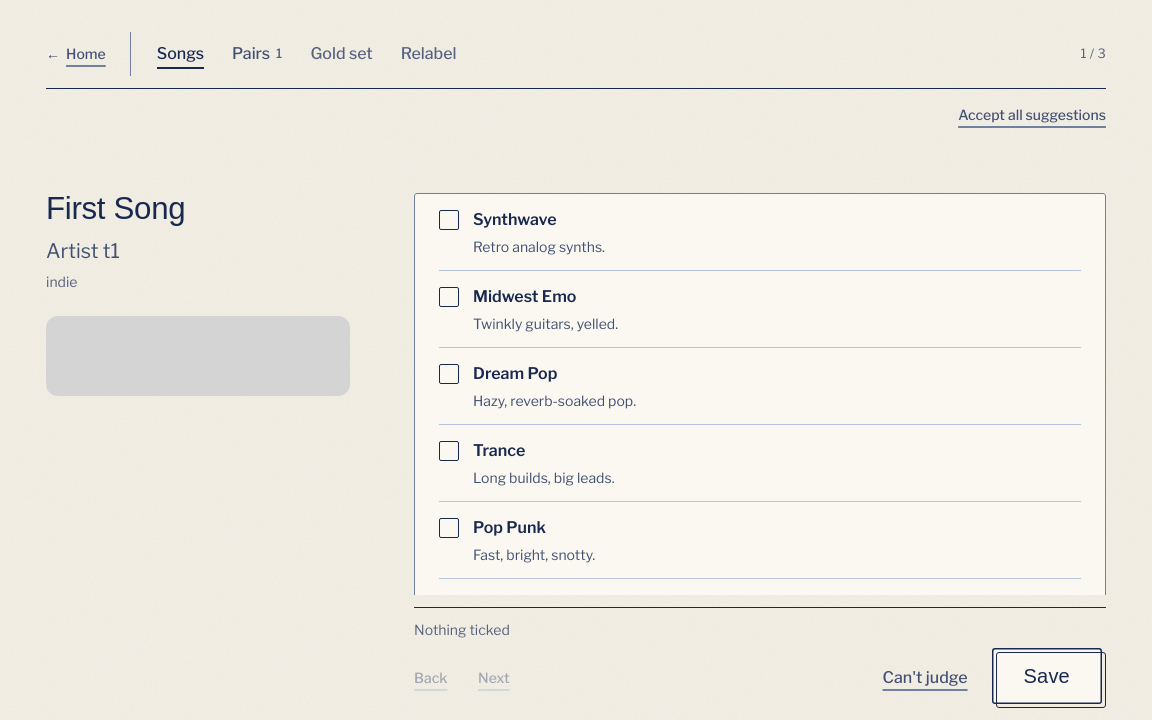
Test: LabelApp: songs › re-saving after Back skips to the next unlabeled song
Click the button "Save" at [1047, 676], box [992,648,1102,704]
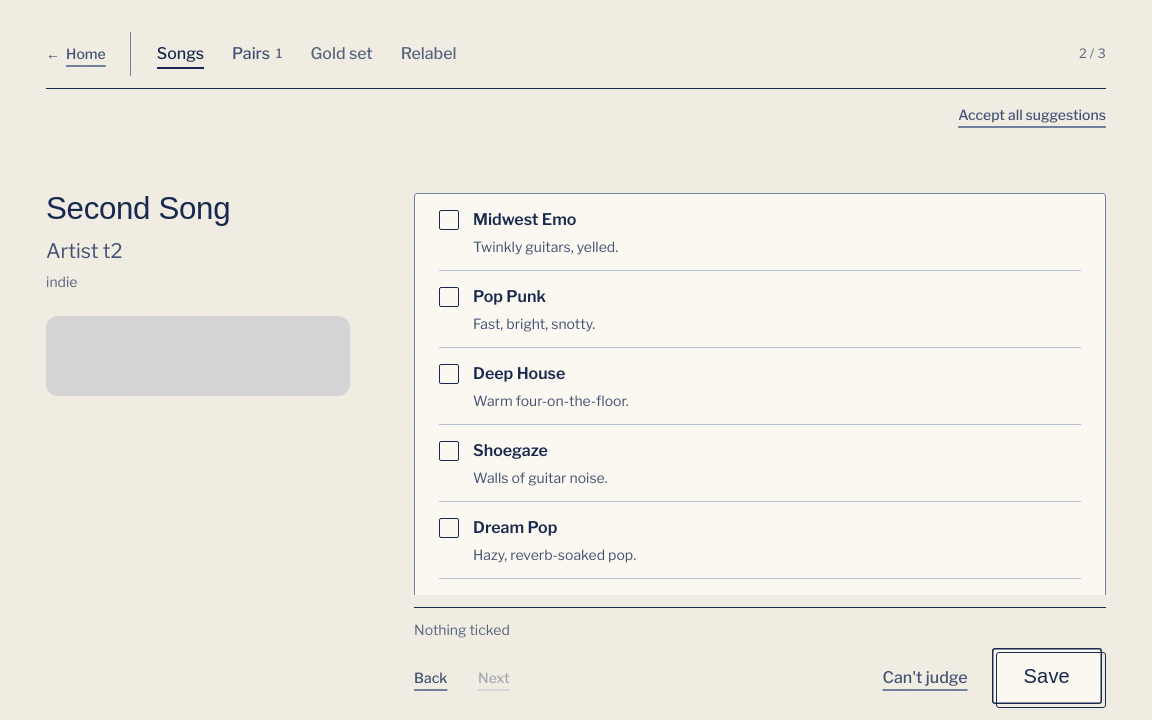
Click the button "Back" at [436, 678], box [414,656,458,700]
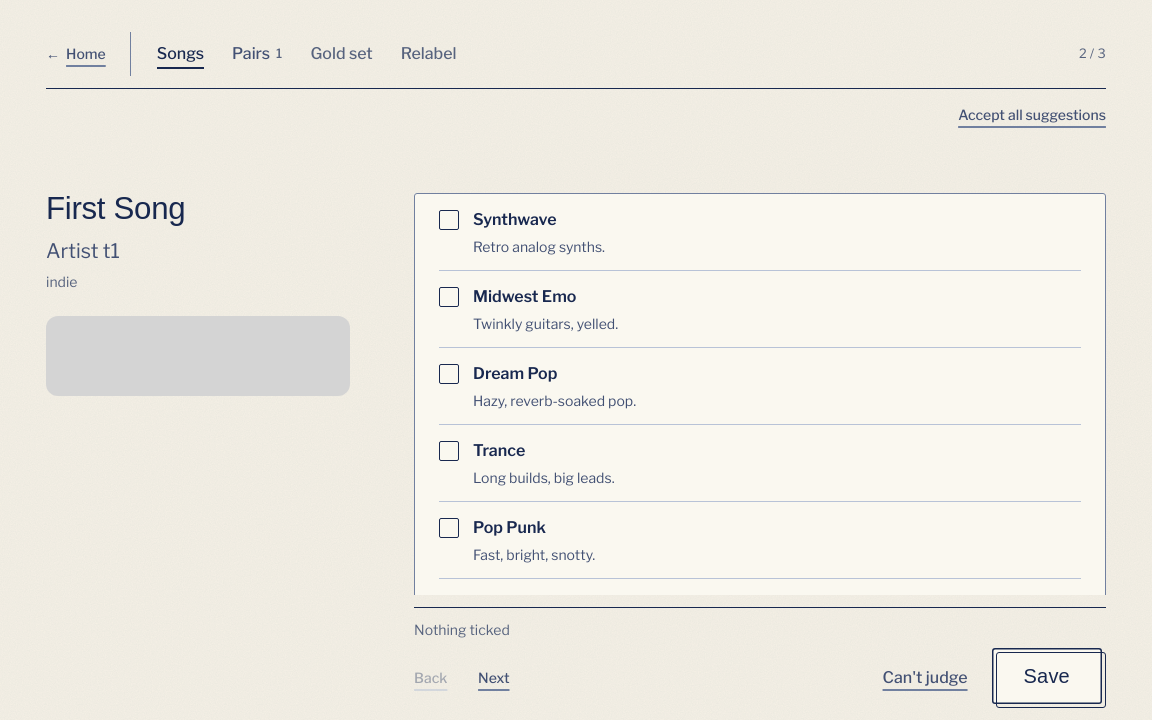
Click the button "Save" at [1047, 676], box [992,648,1102,704]
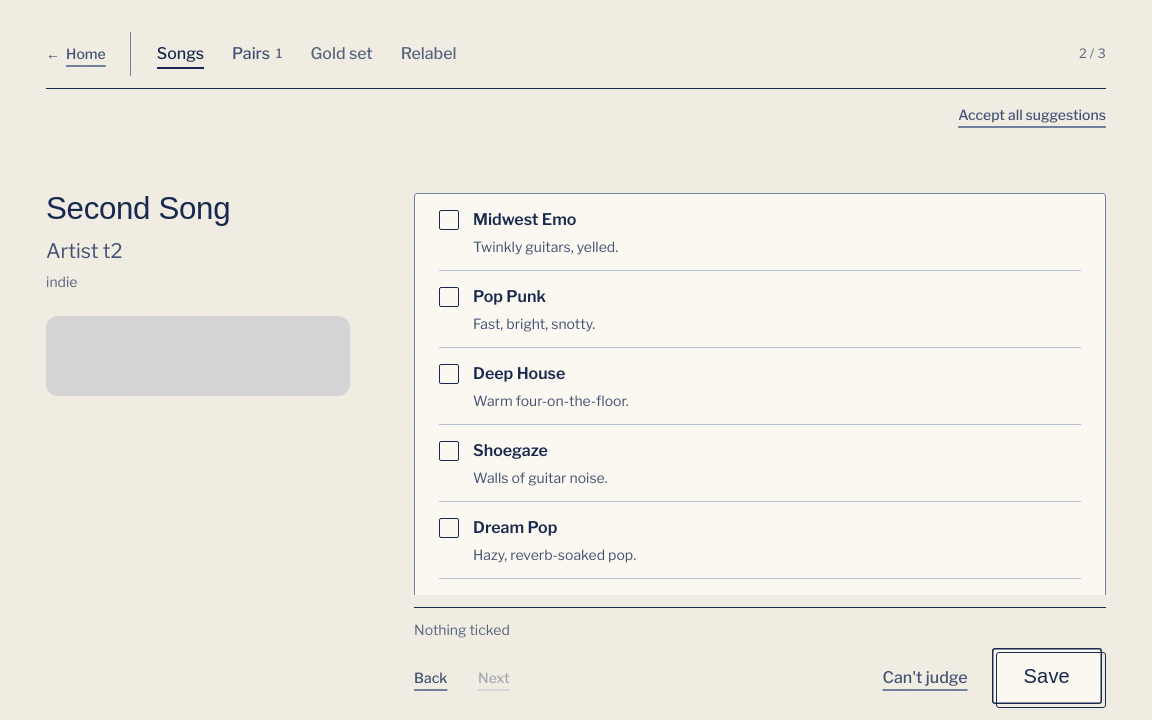
Click the button "Save" at [1047, 676], box [992,648,1102,704]
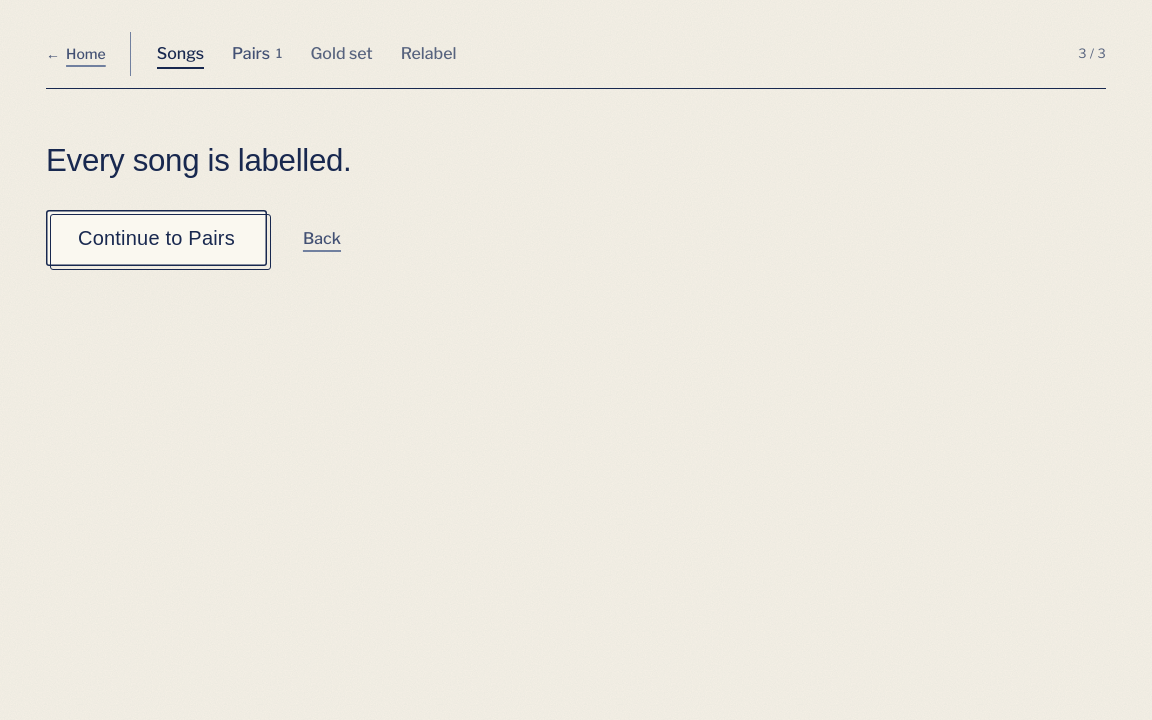
Check: the text "Every song is labelled." is shown, box [46,143,351,178]
